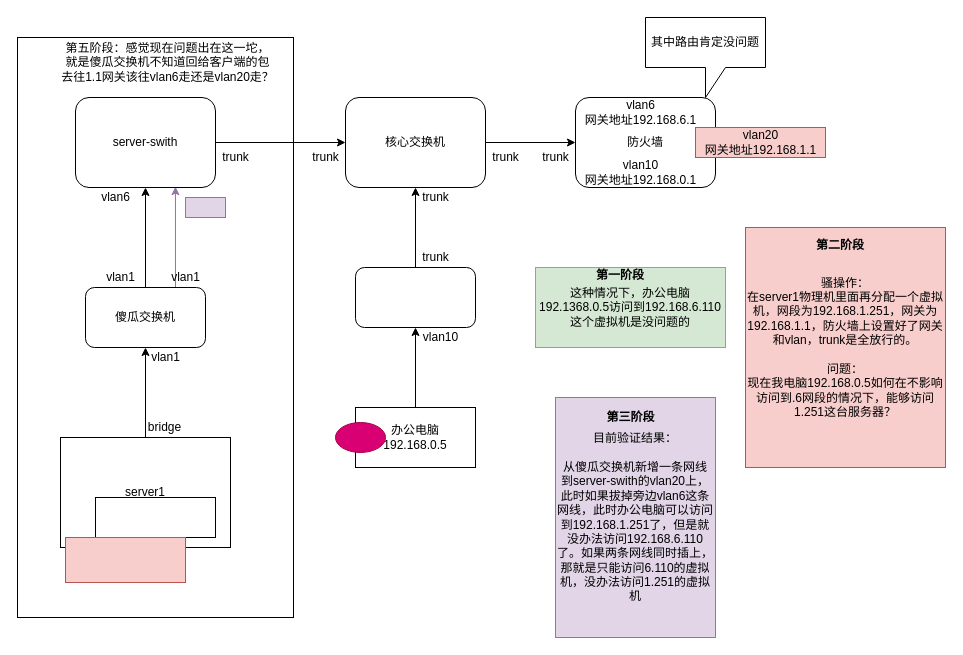
Image size: 963x655. Some labels were removed from this diagram. The centre of each missing label's shape, as x and y in pixels:
"vlan20" goes at pixel 205 207.
"出发点" goes at pixel 360 437.
"办公网交换机" goes at pixel 415 297.
"新增虚拟机192.168.1.251" goes at pixel 125 559.
"虚拟机192.168.6.110" goes at pixel 155 517.
